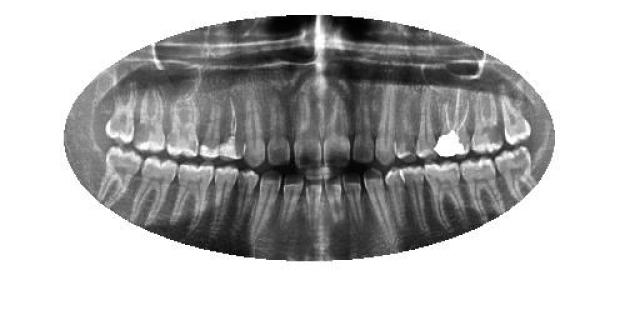Cavity: (132, 89, 168, 152), (470, 89, 504, 155)
Implant: (438, 86, 472, 160), (218, 95, 244, 161)
